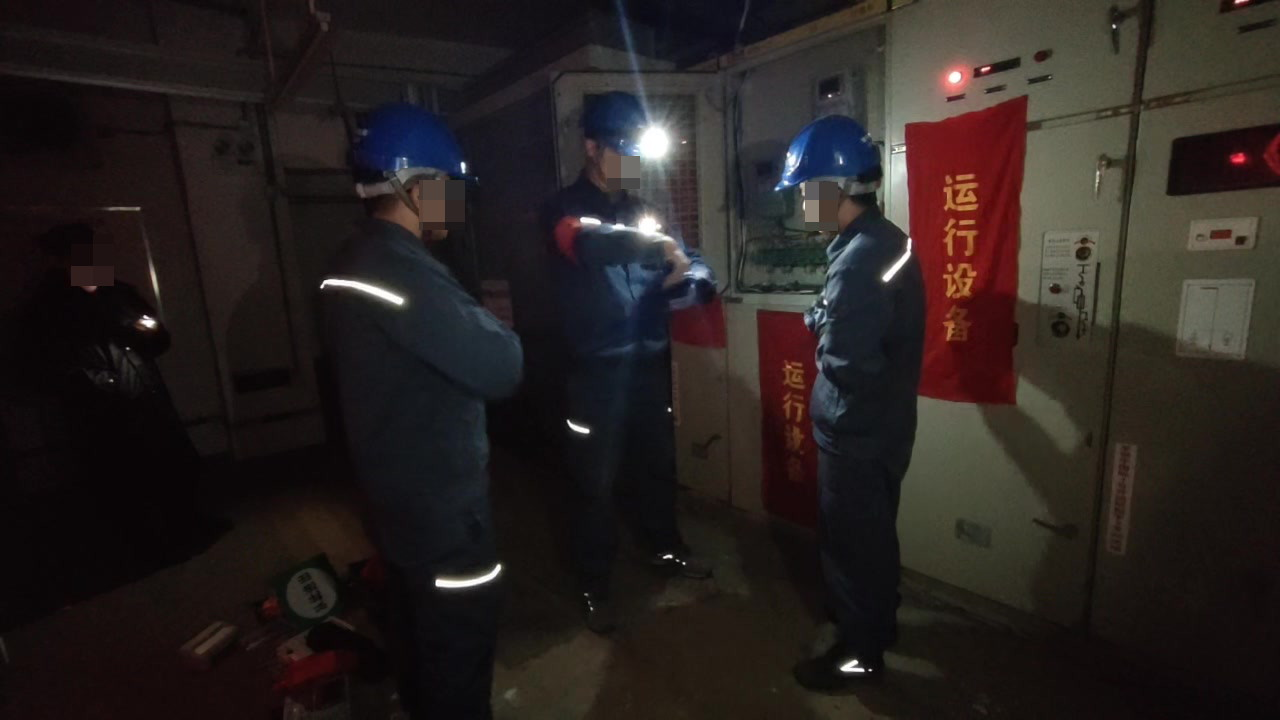badge: (557, 208, 586, 263)
downsuit: (566, 369, 682, 558), (816, 441, 915, 657), (369, 536, 495, 699)
glove: (638, 233, 679, 278), (665, 272, 705, 314)
halt: (349, 103, 469, 246), (785, 115, 885, 225), (578, 94, 657, 187)
inear: (391, 166, 441, 227), (805, 175, 847, 228)
intosign: (273, 558, 342, 631)
person: (302, 98, 528, 715), (781, 113, 925, 685), (545, 105, 697, 606), (37, 220, 181, 539)
upsuit: (304, 217, 525, 536), (811, 216, 924, 437), (558, 188, 668, 346)
